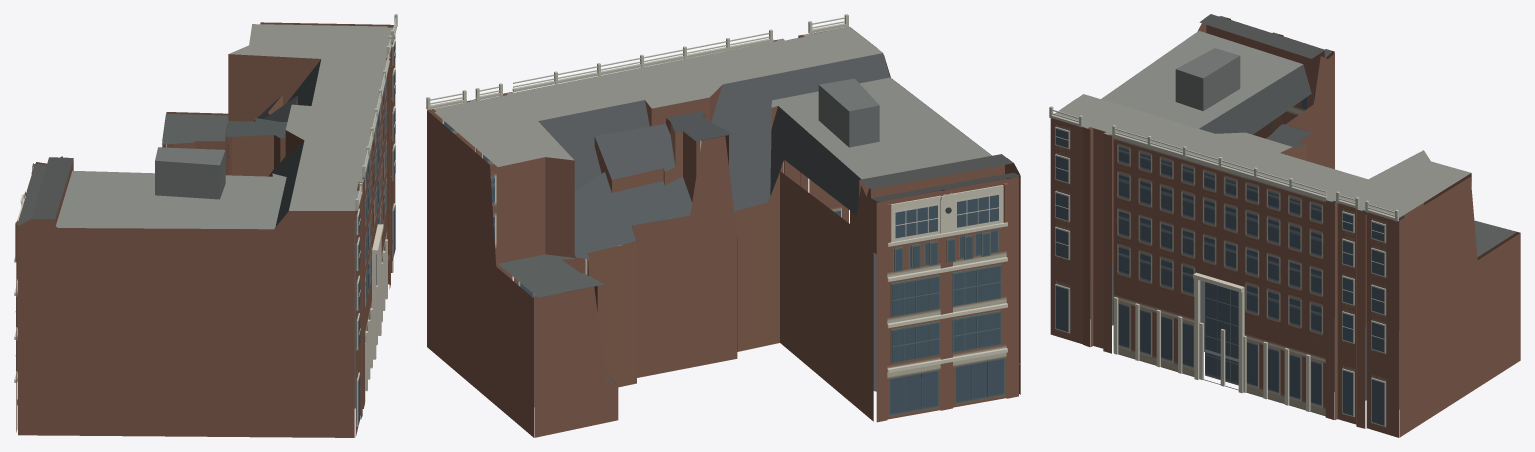
3 renders of one model, left to right at view 1: azimuth 30°, elevation 25°; view 2: azimuth 150°, elevation 25°; view 3: azimuth 270°, elevation 25°, orthographic. The views are drawn at different scales.
Visible parts, largest first — view 1: 0363100012168028; view 2: 0363100012168028; view 3: 0363100012168028.
Boxes of the visible parts, left/top/right/bottom form: 0363100012168028: left=14, top=14, right=397, bottom=437; 0363100012168028: left=426, top=14, right=1020, bottom=437; 0363100012168028: left=1049, top=14, right=1520, bottom=437.
Bounding box in the file's own units: 39.94 × 19.53 × 35.87.
2 materials, 1 textured.
